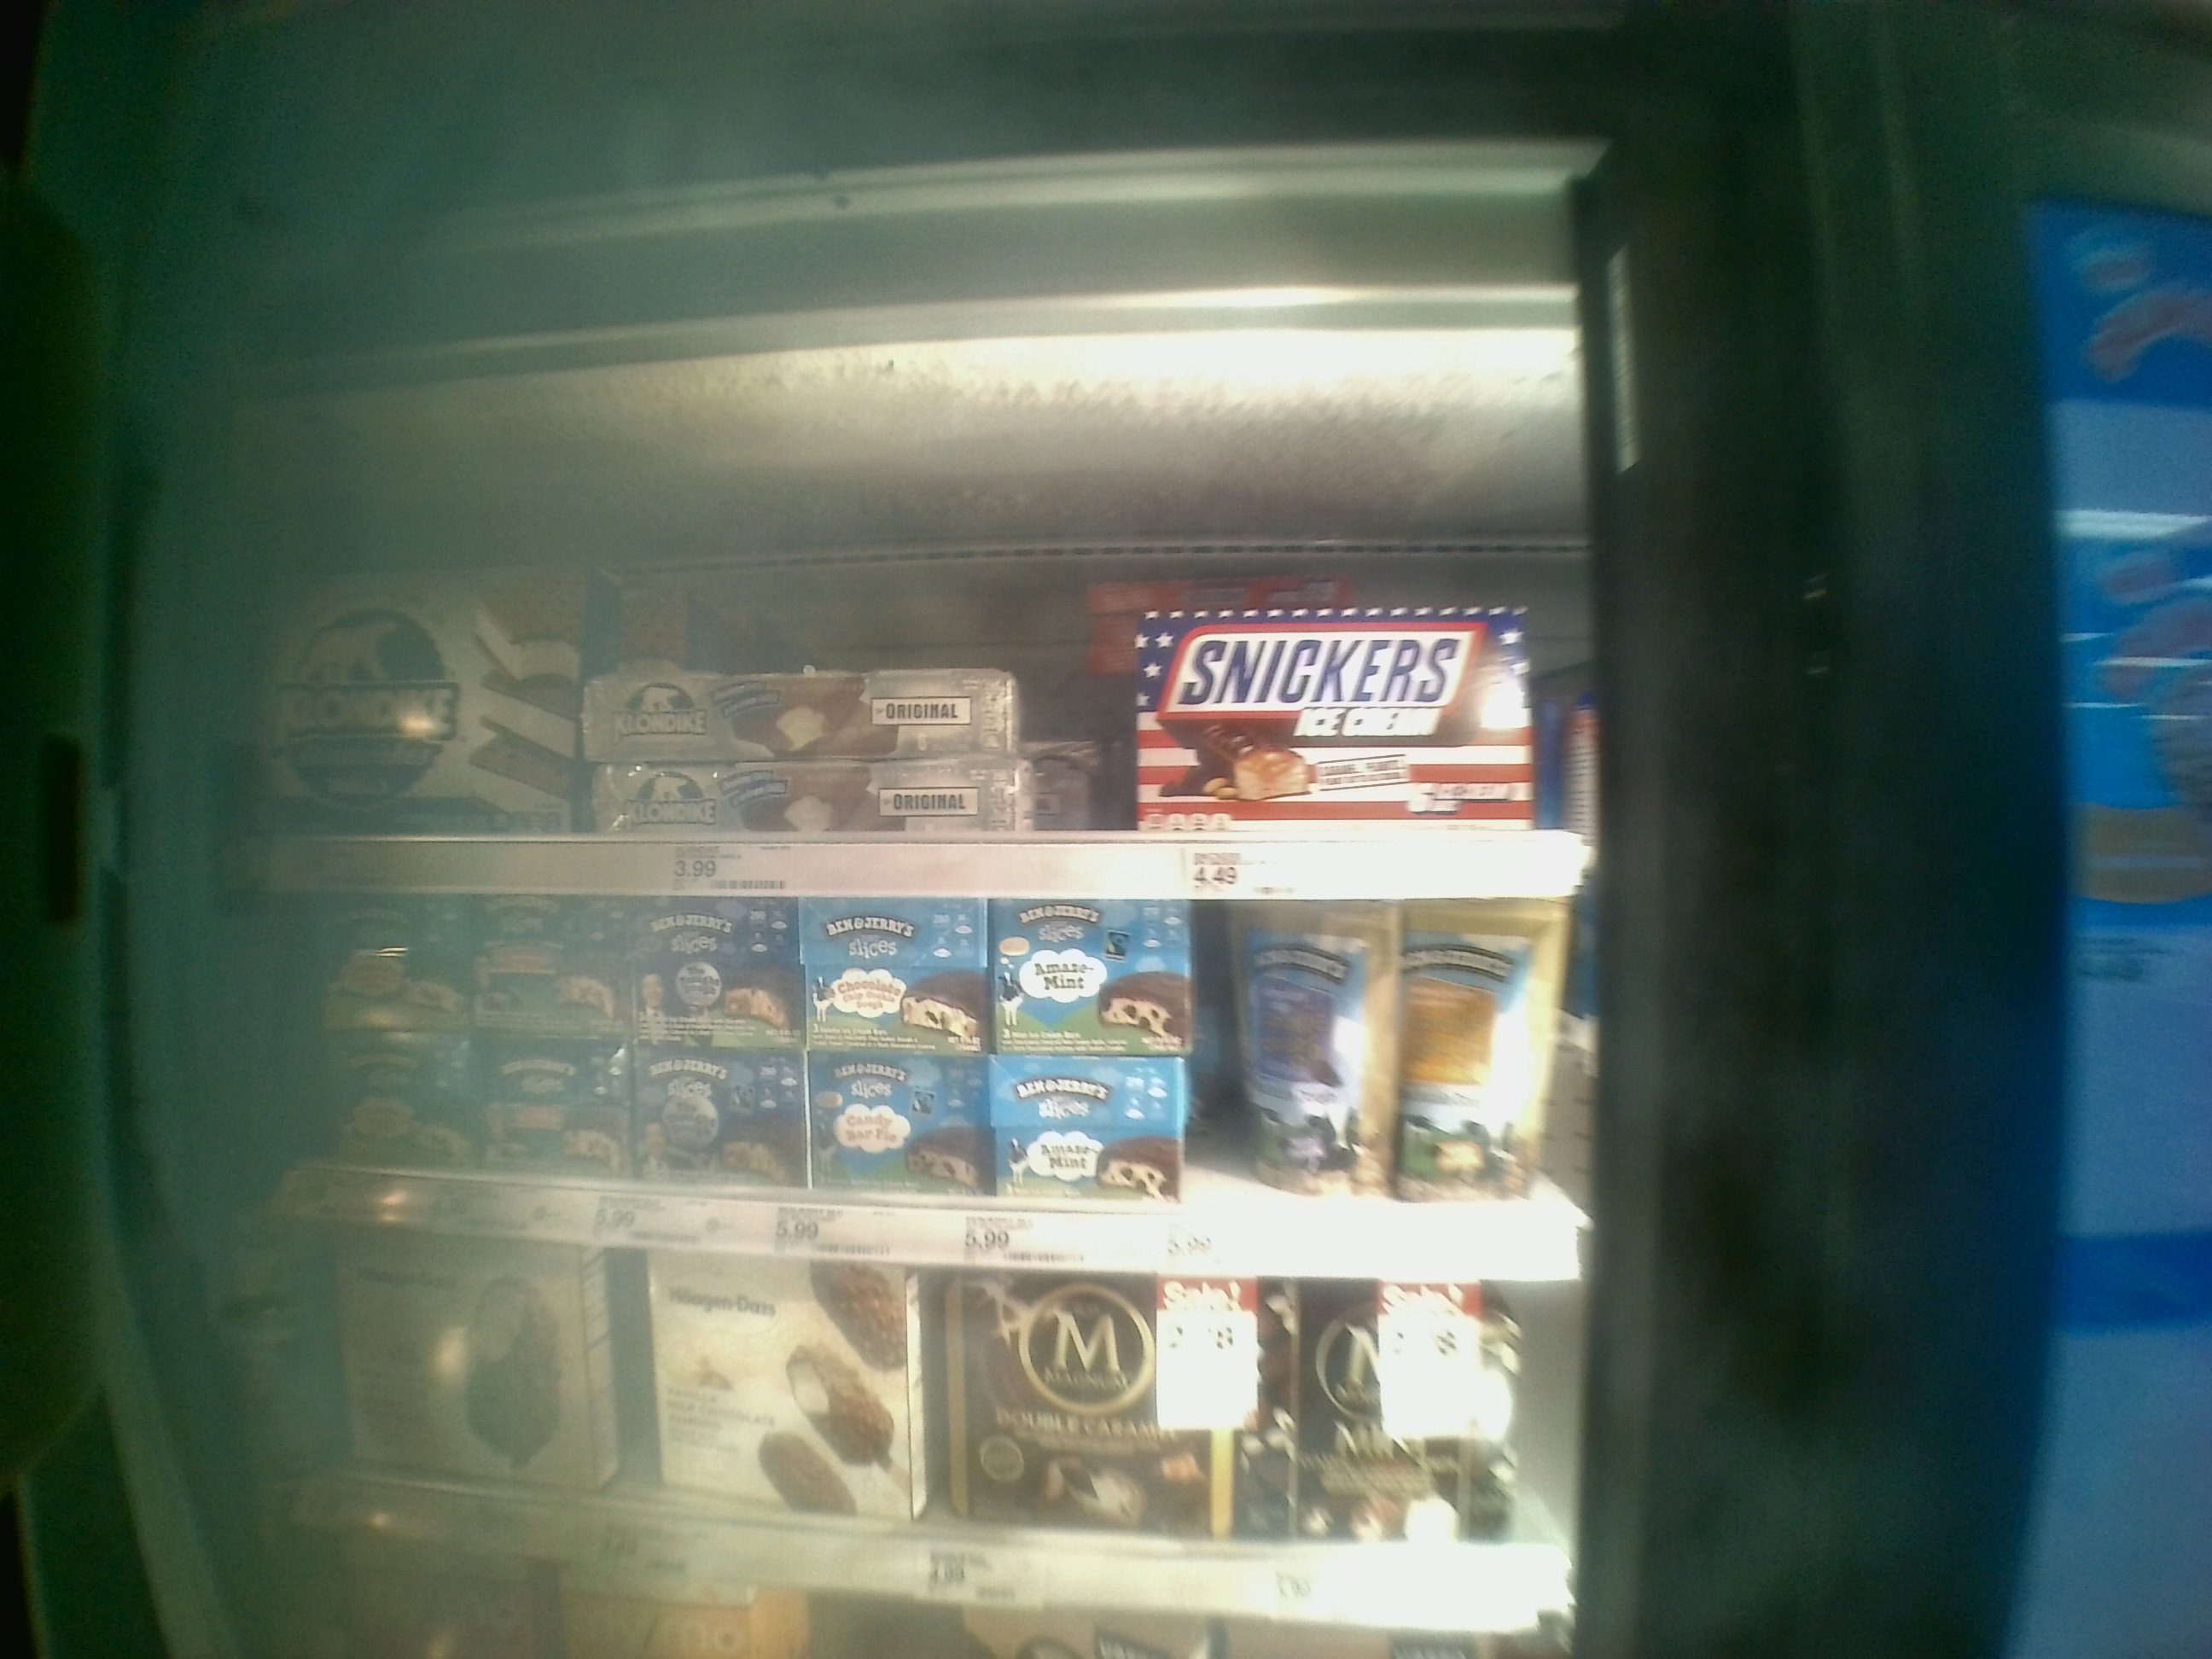shelf: (218, 892, 1604, 1297), (221, 483, 1583, 884), (261, 1220, 1578, 1633)
